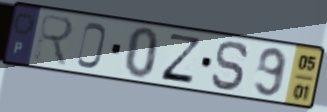0: (121, 25, 162, 81), (76, 21, 109, 70)
9: (253, 46, 289, 99)
R: (31, 11, 76, 70)
S: (209, 39, 252, 94)
Z: (158, 32, 204, 87)
